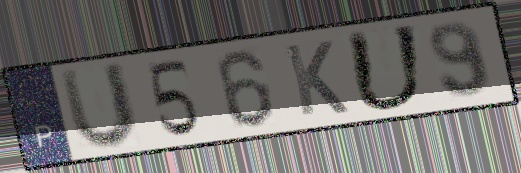5: (143, 56, 202, 138)
6: (214, 45, 278, 131)
9: (426, 19, 494, 100)
K: (281, 38, 352, 119)
U: (343, 21, 429, 114), (56, 59, 141, 152)
